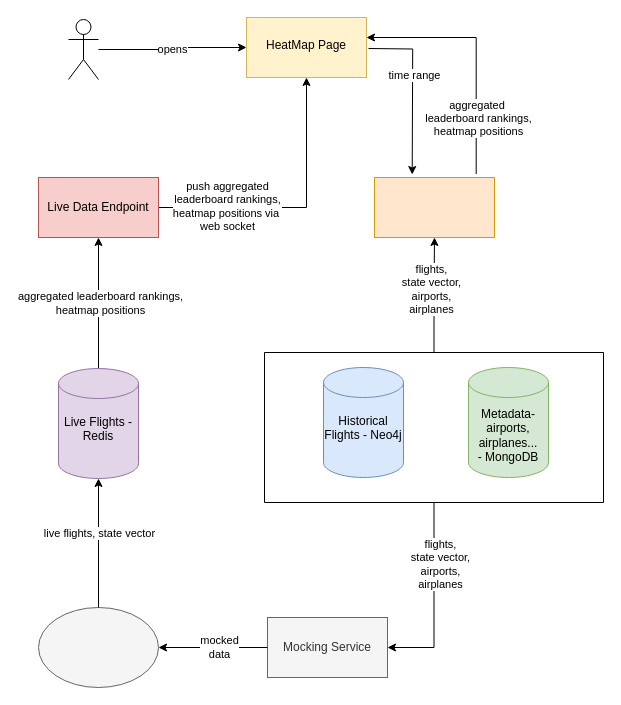
The diagram is 621 pixels wide and 705 high, and some of its shapes have lost their labels. Each missing label, with the box of its shape:
HIstory Data Endpoint: (374, 176, 494, 238)
replay: (38, 606, 158, 688)
User: (68, 18, 98, 80)
